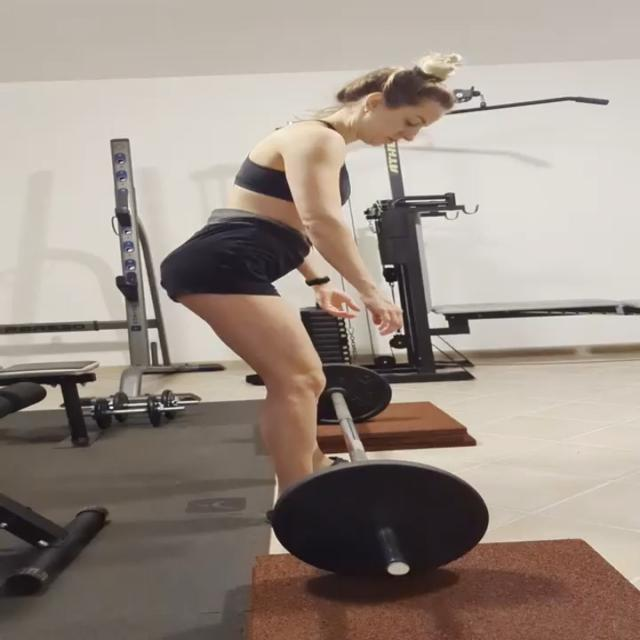barbell: (271, 458, 496, 590)
